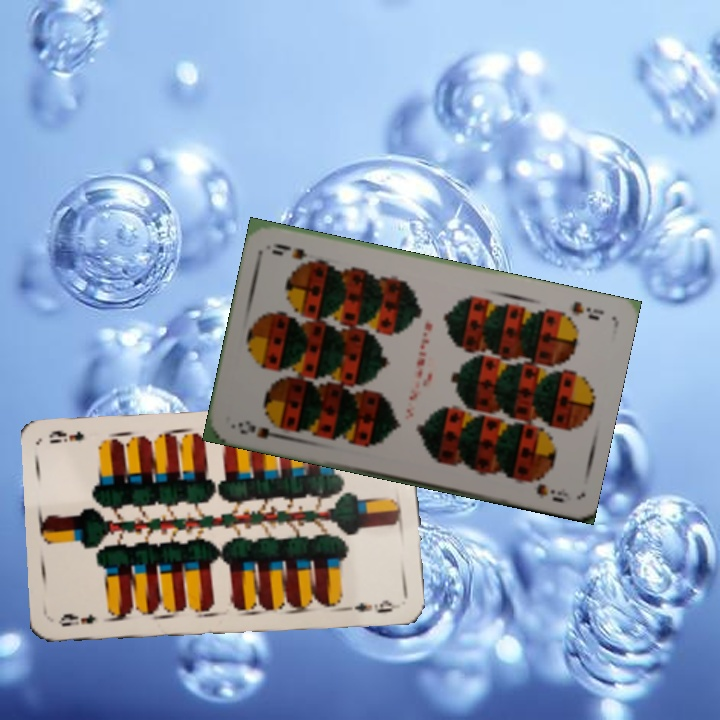E9: (54, 609, 99, 629)
S9: (234, 416, 289, 442), (567, 297, 606, 323)
